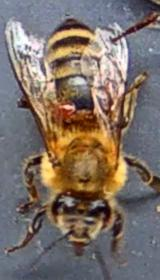varroa_mite: (44, 90, 86, 126)
